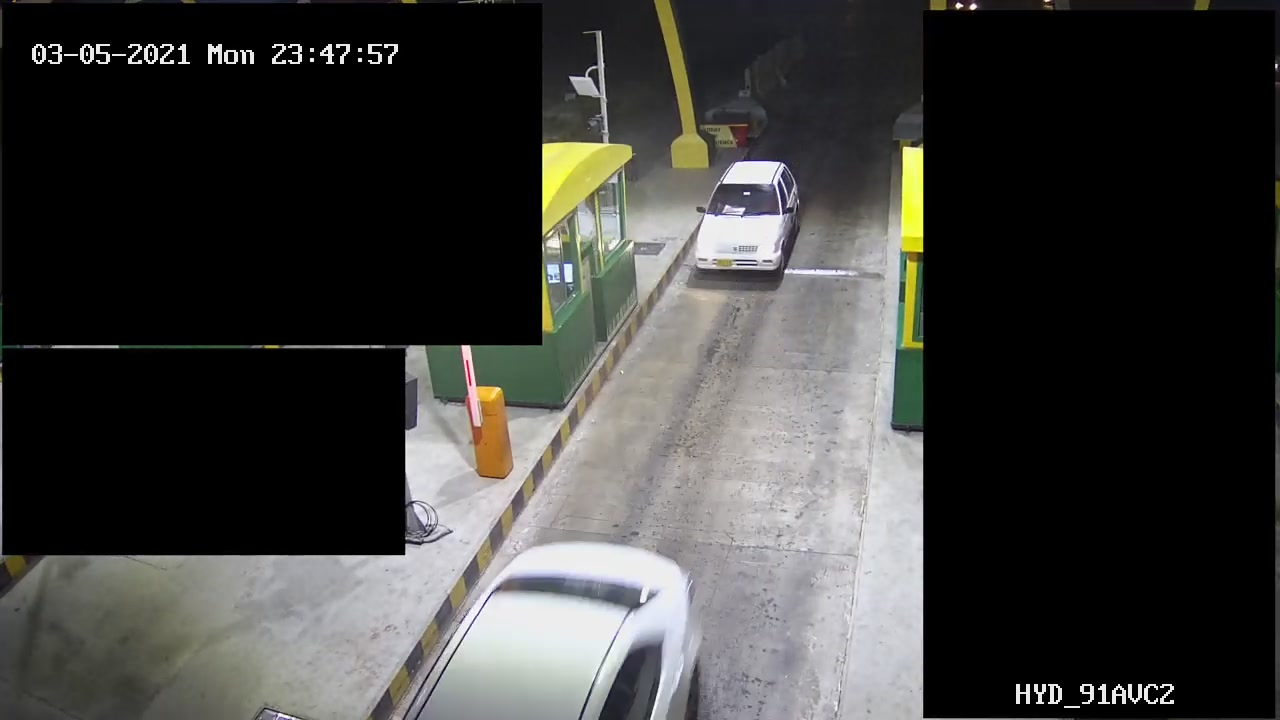F1: (688, 157, 811, 286)
